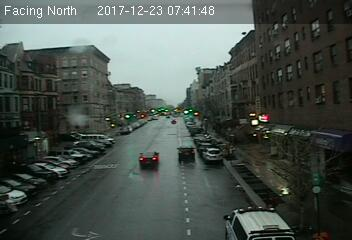car: (137, 150, 160, 167), (201, 146, 222, 162), (176, 145, 196, 161)
police: (218, 205, 287, 240)
